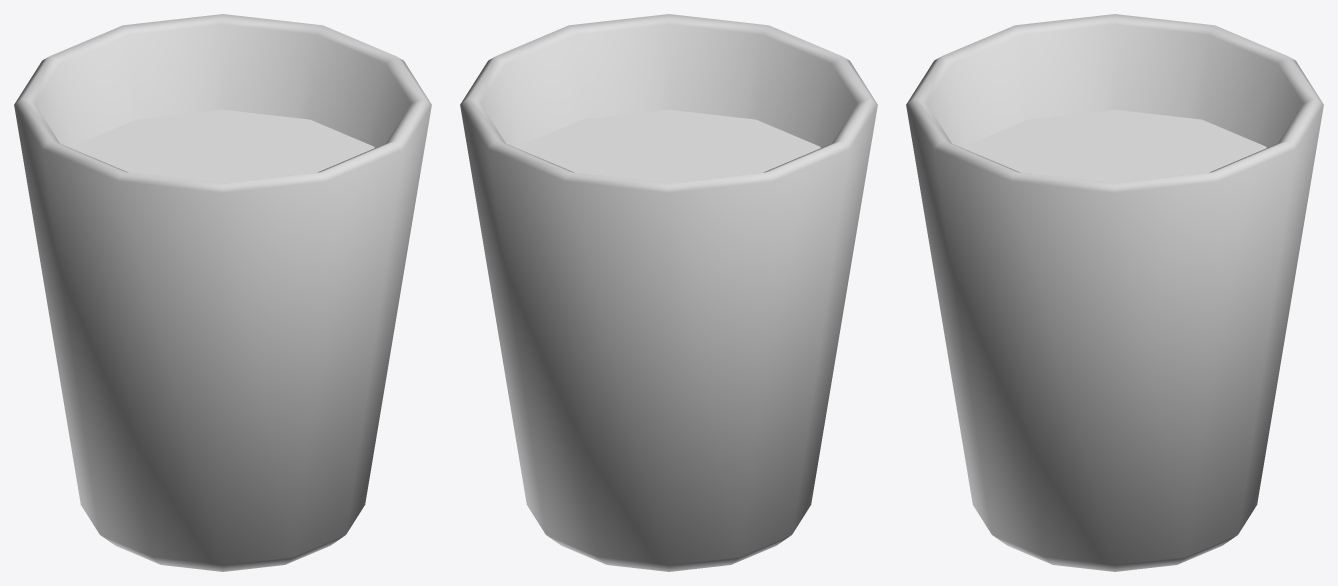
File: GlassOfMilk_01.fbx
3 views of the same model, side by side, from view 1: azimuth 30°, elevation 25°; view 2: azimuth 150°, elevation 25°; view 3: azimuth 270°, elevation 25° (orthographic).
Parts seen in each view (by area): view 1: GlassOfMilk_01; view 2: GlassOfMilk_01; view 3: GlassOfMilk_01.
Part boxes in pixels (x1,y1,x2,y2): GlassOfMilk_01: (14,14,431,571); GlassOfMilk_01: (460,14,877,571); GlassOfMilk_01: (906,14,1323,571).
Size of the model in its own units: 0.1163 by 0.1292 by 0.1163.
